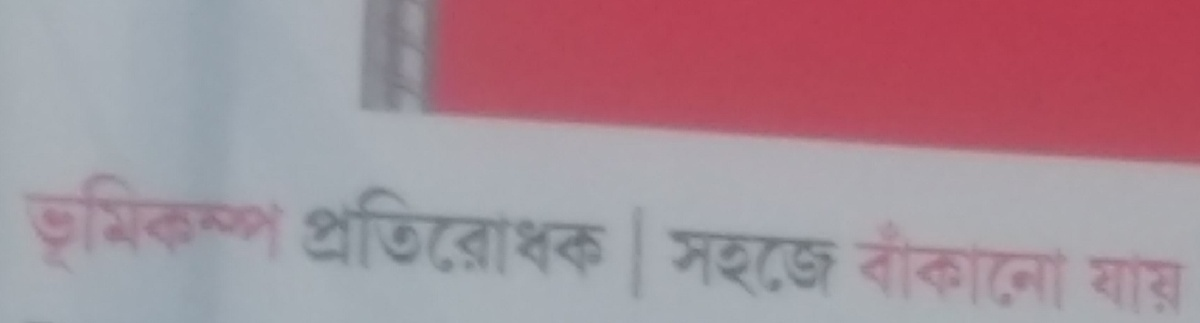text: (33, 167, 48, 288), (49, 167, 64, 288), (65, 167, 80, 288), (81, 167, 96, 288), (97, 167, 112, 288), (113, 167, 128, 288), (129, 167, 144, 288), (145, 167, 160, 288), (161, 167, 176, 288), (177, 167, 192, 288), (193, 167, 208, 288), (209, 167, 224, 288), (225, 167, 240, 288), (241, 167, 256, 288), (257, 167, 272, 288), (273, 167, 288, 288), (18, 167, 32, 288), (305, 178, 320, 285), (321, 178, 336, 285), (337, 178, 352, 285), (353, 178, 368, 285), (369, 178, 384, 285), (385, 178, 400, 285), (401, 178, 416, 285), (417, 178, 432, 285), (433, 178, 448, 285), (449, 178, 464, 285), (465, 178, 480, 285), (481, 178, 496, 285), (497, 178, 512, 285), (513, 178, 528, 285), (529, 178, 544, 285), (545, 178, 560, 285), (561, 178, 576, 285), (577, 178, 592, 285), (593, 178, 608, 285), (865, 214, 880, 318), (881, 214, 896, 318), (897, 214, 912, 318), (913, 214, 928, 318), (929, 214, 944, 318), (945, 214, 960, 318), (961, 214, 976, 318), (977, 214, 992, 318), (993, 214, 1008, 318), (1009, 214, 1024, 318), (1025, 214, 1040, 318), (1041, 214, 1056, 318), (1057, 214, 1072, 318), (851, 214, 864, 318), (673, 228, 688, 312), (689, 228, 704, 312), (705, 228, 720, 312), (721, 228, 736, 312), (737, 228, 752, 312), (753, 228, 768, 312), (769, 228, 784, 312), (785, 228, 800, 312), (801, 228, 816, 312), (817, 228, 832, 312), (628, 200, 640, 300), (1089, 251, 1104, 319), (1105, 251, 1120, 319), (1121, 251, 1136, 319), (1137, 251, 1152, 319), (1153, 251, 1168, 319), (1169, 251, 1184, 319), (664, 228, 672, 312), (641, 200, 647, 300), (833, 228, 840, 312), (299, 178, 304, 285), (1185, 251, 1188, 319), (1086, 251, 1088, 319), (289, 167, 290, 288), (1073, 214, 1074, 318)
